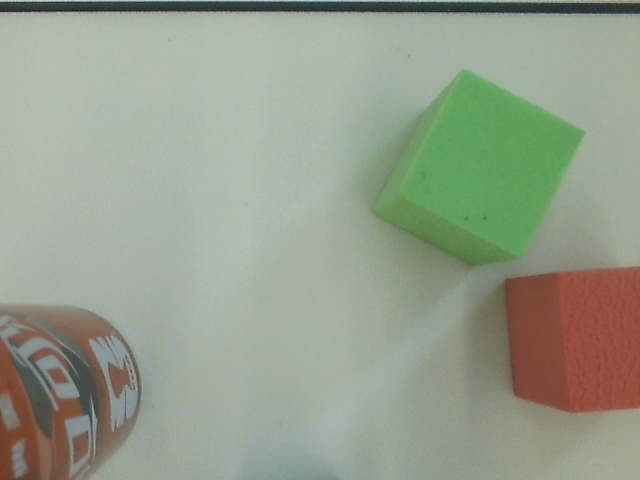cola: (1, 295, 182, 480)
greencube: (371, 67, 587, 275)
redcube: (503, 266, 640, 420)
